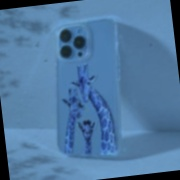iphone: (52, 21, 124, 162)
